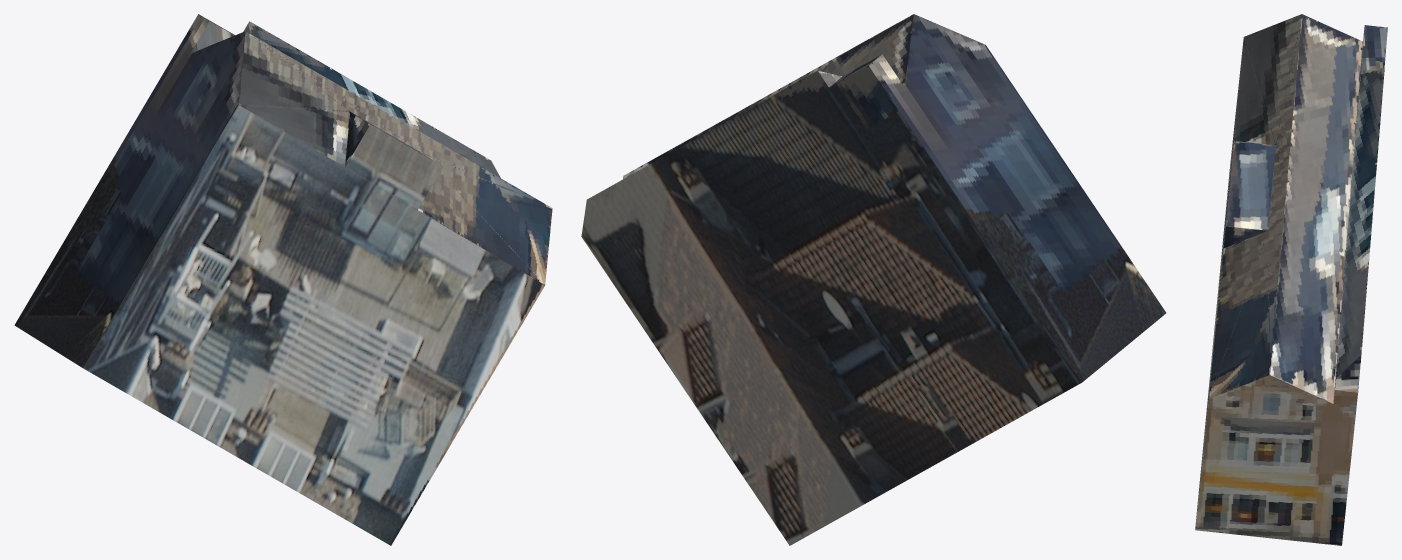
The picture shows the model from 3 angles, left to right: view 1: azimuth 30°, elevation 25°; view 2: azimuth 150°, elevation 25°; view 3: azimuth 270°, elevation 25°; orthographic projection. The views are drawn at different scales.
Visible parts, largest first — view 1: BAG_0599100000671720 (×6); view 2: BAG_0599100000671720 (×2); view 3: BAG_0599100000671720 (×6).
Boxes of the visible parts, x1,y1,x2,y2 form: BAG_0599100000671720 (×6): [14, 14, 552, 545]; BAG_0599100000671720 (×2): [581, 14, 1166, 545]; BAG_0599100000671720 (×6): [1195, 14, 1387, 545].
Bounding box in the file's own units: 17.3 × 17.15 × 6.15.
Materials: 1 (1 with a texture image).
